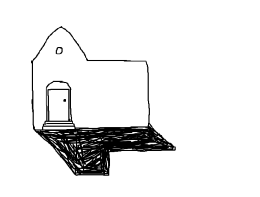door: (43, 74, 77, 134)
shadow: (23, 125, 186, 182)
single_line_roof: (28, 24, 151, 67)
wall: (29, 52, 153, 131)
